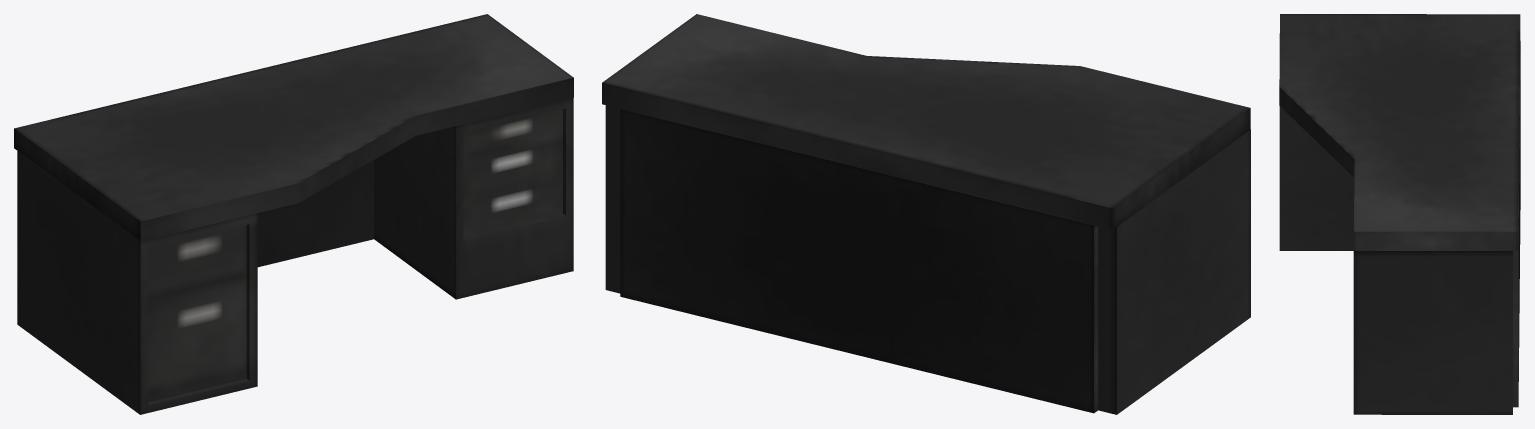
Rendered from MESH_MESA_GAVETA_01.fbx.
The picture shows the model from 3 angles, left to right: view 1: azimuth 30°, elevation 25°; view 2: azimuth 150°, elevation 25°; view 3: azimuth 270°, elevation 25°; orthographic projection. The views are drawn at different scales.
Visible parts, largest first — view 1: MESH_MESA_GAVETA_01; view 2: MESH_MESA_GAVETA_01; view 3: MESH_MESA_GAVETA_01.
Boxes of the visible parts, x1,y1,x2,y2 form: MESH_MESA_GAVETA_01: (14,14,573,414); MESH_MESA_GAVETA_01: (602,14,1250,414); MESH_MESA_GAVETA_01: (1279,14,1520,414).
Size of the model in its own units: 1.5 by 0.5859 by 0.7.
